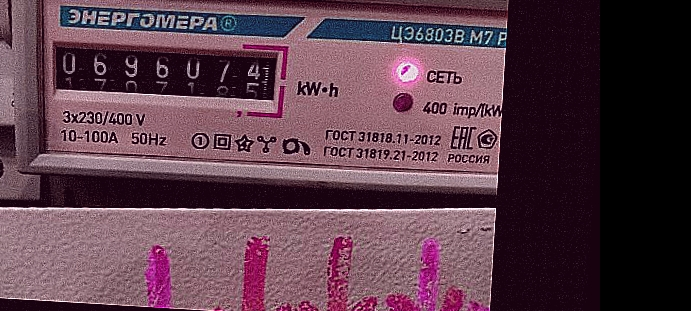0: (56, 48, 76, 74), (183, 53, 200, 80)
4: (244, 56, 261, 81)
5: (243, 80, 259, 98)
6: (89, 48, 110, 76), (151, 53, 169, 78)
7: (212, 56, 231, 83)
9: (119, 51, 139, 77)
screen: (36, 25, 292, 121)
